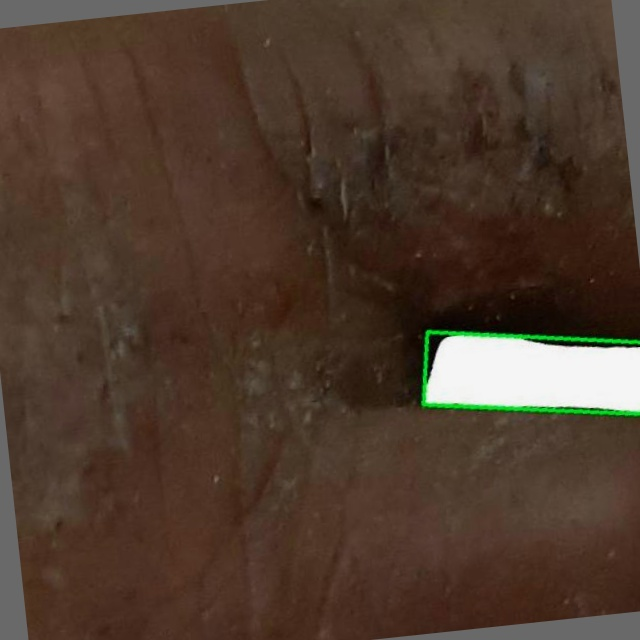Eczema: (423, 332, 639, 415)
